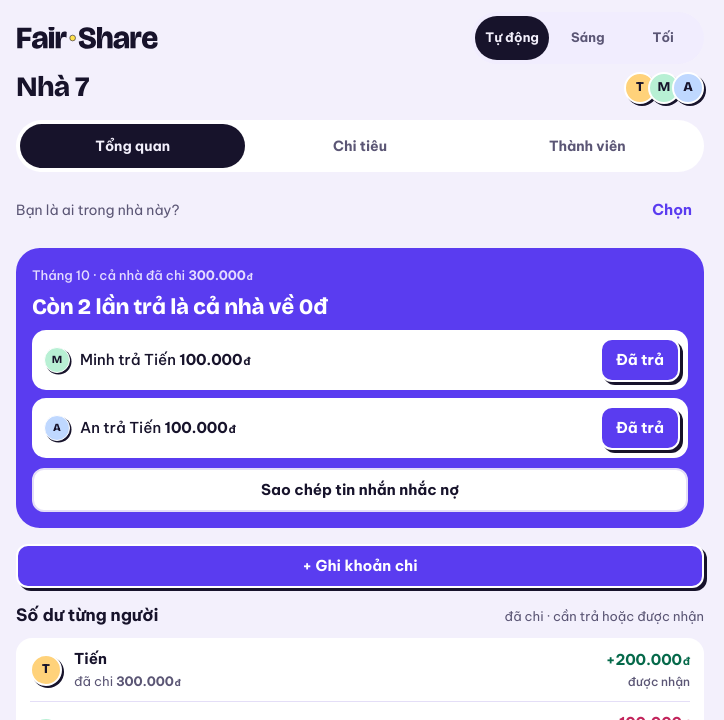
Test: "Đã trả" stamps the card, keeps it in place and offers Hoàn tác, in the card and in a toast
Click the button "Đã trả" in the row of "Minh trả Tiến". click: (640, 360)
box: [600, 338, 680, 382]
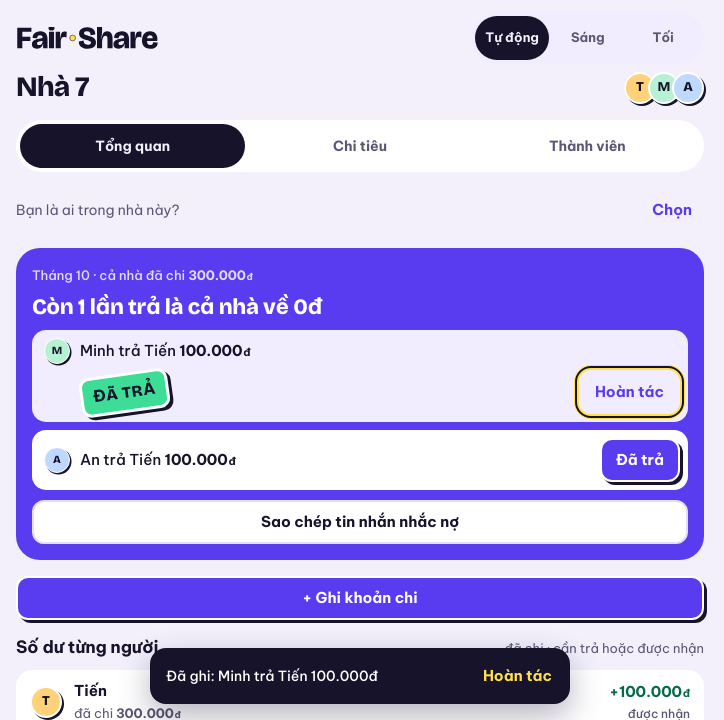
Expected: the list item "M Minh trả Tiến 100.000đ ĐÃ TRẢ Hoàn tác" is shown, [32, 330, 688, 422]
Expected: the text "Đã ghi: Minh trả Tiến 100.000đ" is shown, [166, 666, 378, 686]
